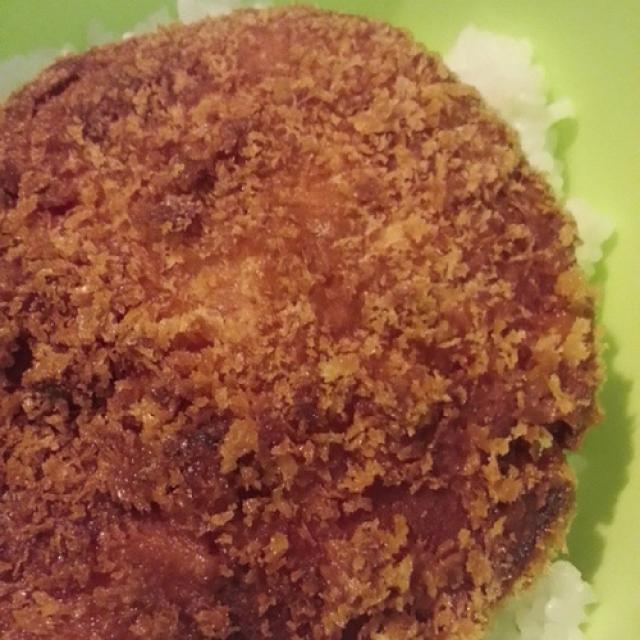炸货点心: (4, 10, 602, 626)
